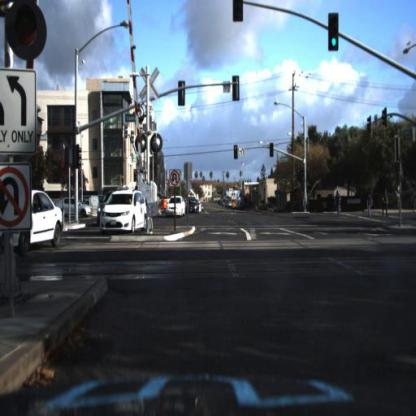biker: (334, 183, 343, 217)
car: (3, 194, 66, 250), (98, 188, 149, 239), (54, 196, 95, 221), (167, 193, 187, 219), (187, 196, 200, 216), (186, 197, 200, 215)
pedestrian: (366, 184, 374, 222), (381, 191, 391, 220), (383, 190, 391, 218), (331, 191, 338, 213), (368, 191, 373, 221)
trafficLight: (8, 4, 53, 69), (329, 13, 339, 50), (232, 1, 244, 25), (269, 141, 276, 158), (234, 140, 239, 162)
trafficLight-Green: (300, 163, 306, 181)
